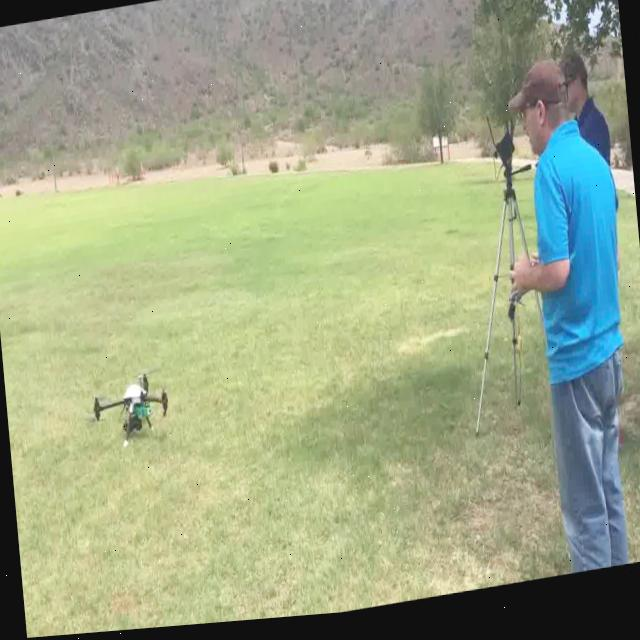drone: (34, 279, 229, 550)
